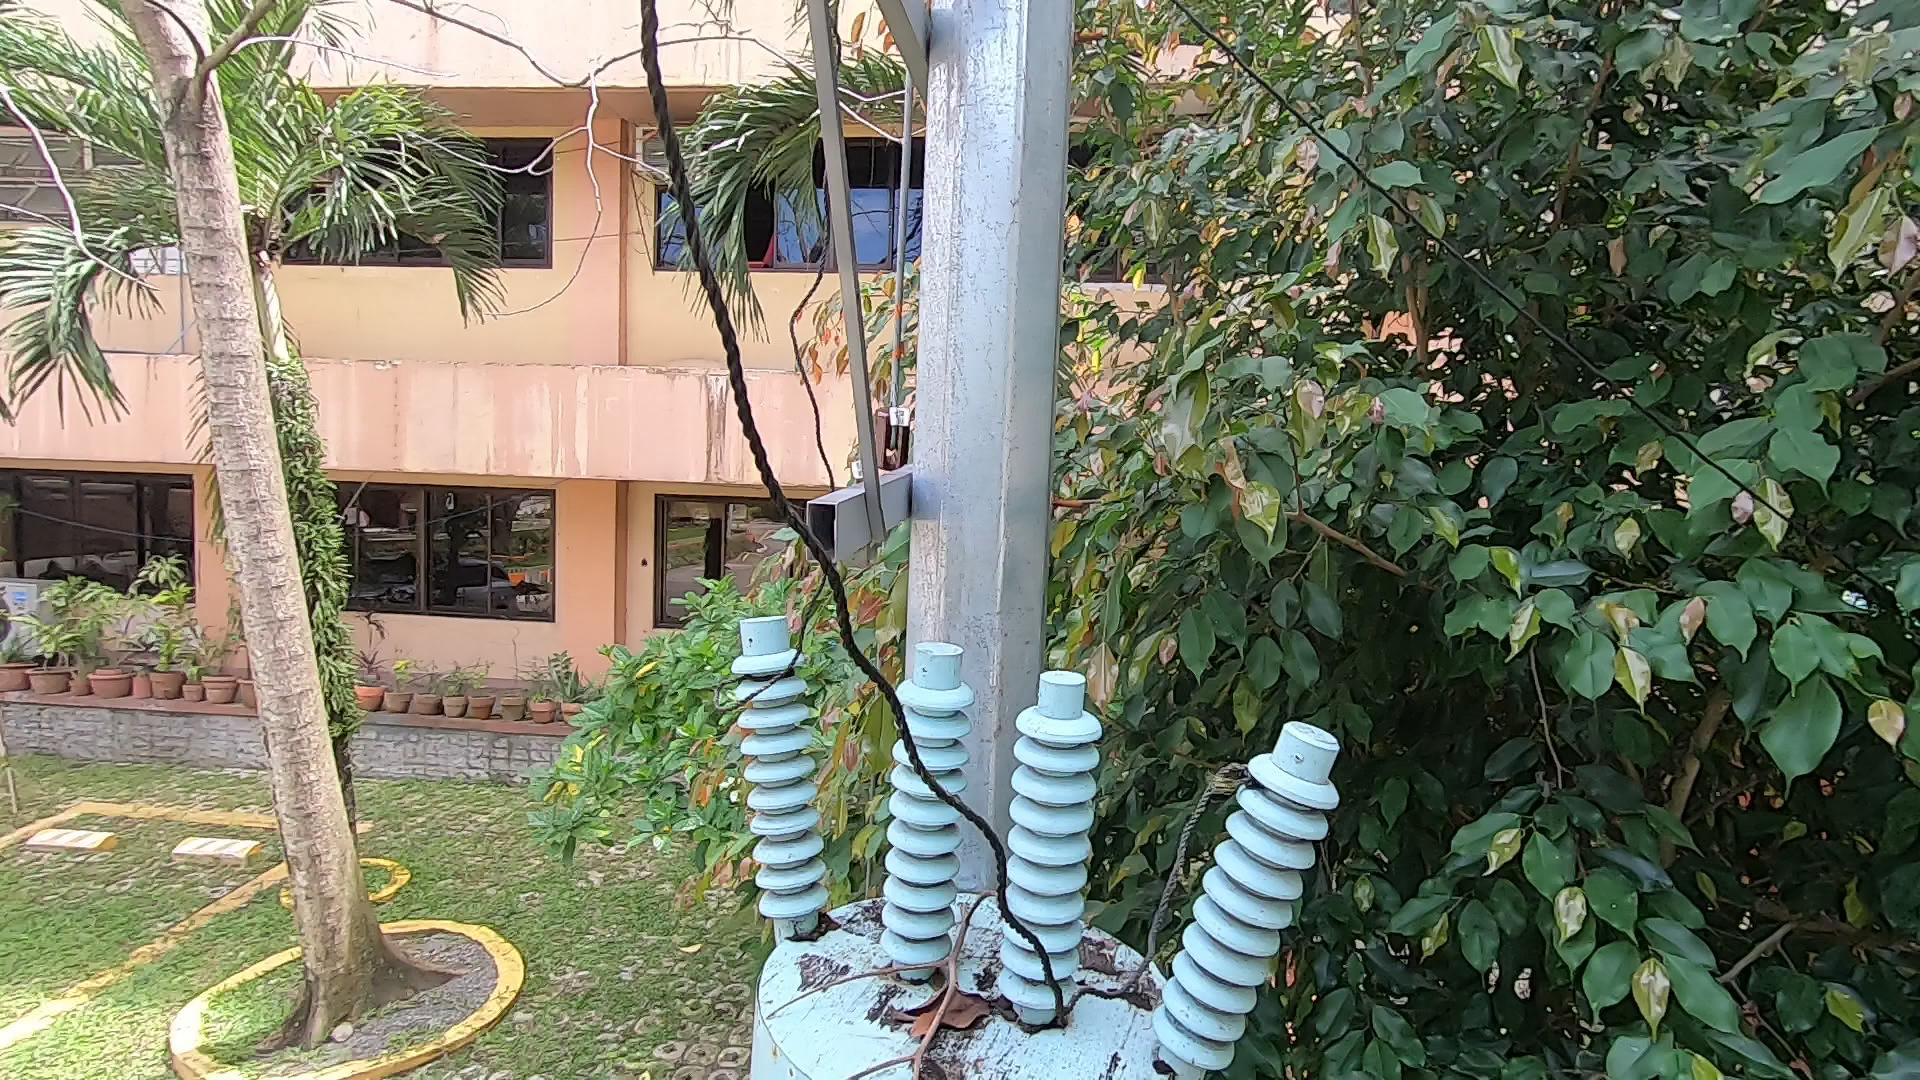leaf: (1073, 935, 1160, 1014), (899, 989, 1011, 1036), (789, 902, 836, 948)
tree branch: (835, 862, 996, 1080)
